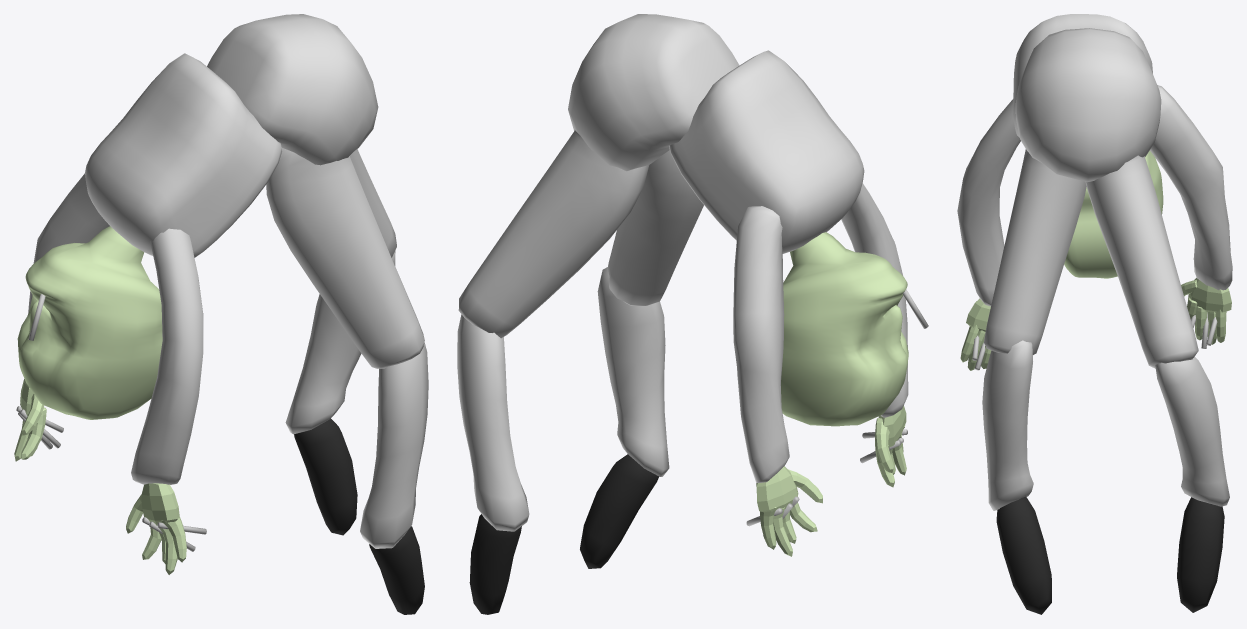
File: canliferous_aboubi_pose.fbx
3 views of the same model, side by side, from view 1: azimuth 30°, elevation 25°; view 2: azimuth 150°, elevation 25°; view 3: azimuth 270°, elevation 25° (orthographic). The views are drawn at different scales.
Parts seen in each view (by area): view 1: Legs, Head/Hands, Shoes, Cigarettes.001; view 2: Legs, Head/Hands, Shoes, Cigarettes.001; view 3: Legs, Shoes, Head/Hands, Cigarettes.001.
Boxes of the visible parts, bbox=[...] form: Legs: bbox=[28, 14, 428, 548]; Head/Hands: bbox=[14, 226, 186, 574]; Shoes: bbox=[294, 418, 424, 614]; Cigarettes.001: bbox=[16, 294, 206, 551]; Legs: bbox=[457, 14, 908, 531]; Head/Hands: bbox=[756, 232, 908, 556]; Shoes: bbox=[469, 454, 658, 614]; Cigarettes.001: bbox=[746, 289, 928, 536]; Legs: bbox=[957, 14, 1232, 510]; Shoes: bbox=[996, 496, 1224, 614]; Head/Hands: bbox=[960, 150, 1231, 370]; Cigarettes.001: bbox=[972, 312, 1217, 370].
Size of the model in its own units: 1.06 by 1.44 by 0.67.
